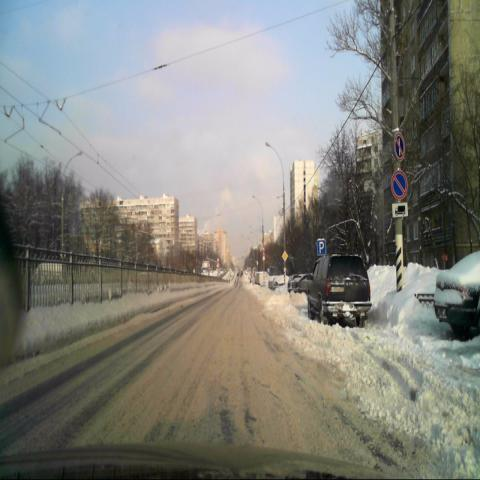3_28: (390, 170, 408, 202)
3_29: (394, 133, 404, 161)
6_4: (317, 239, 326, 256)
